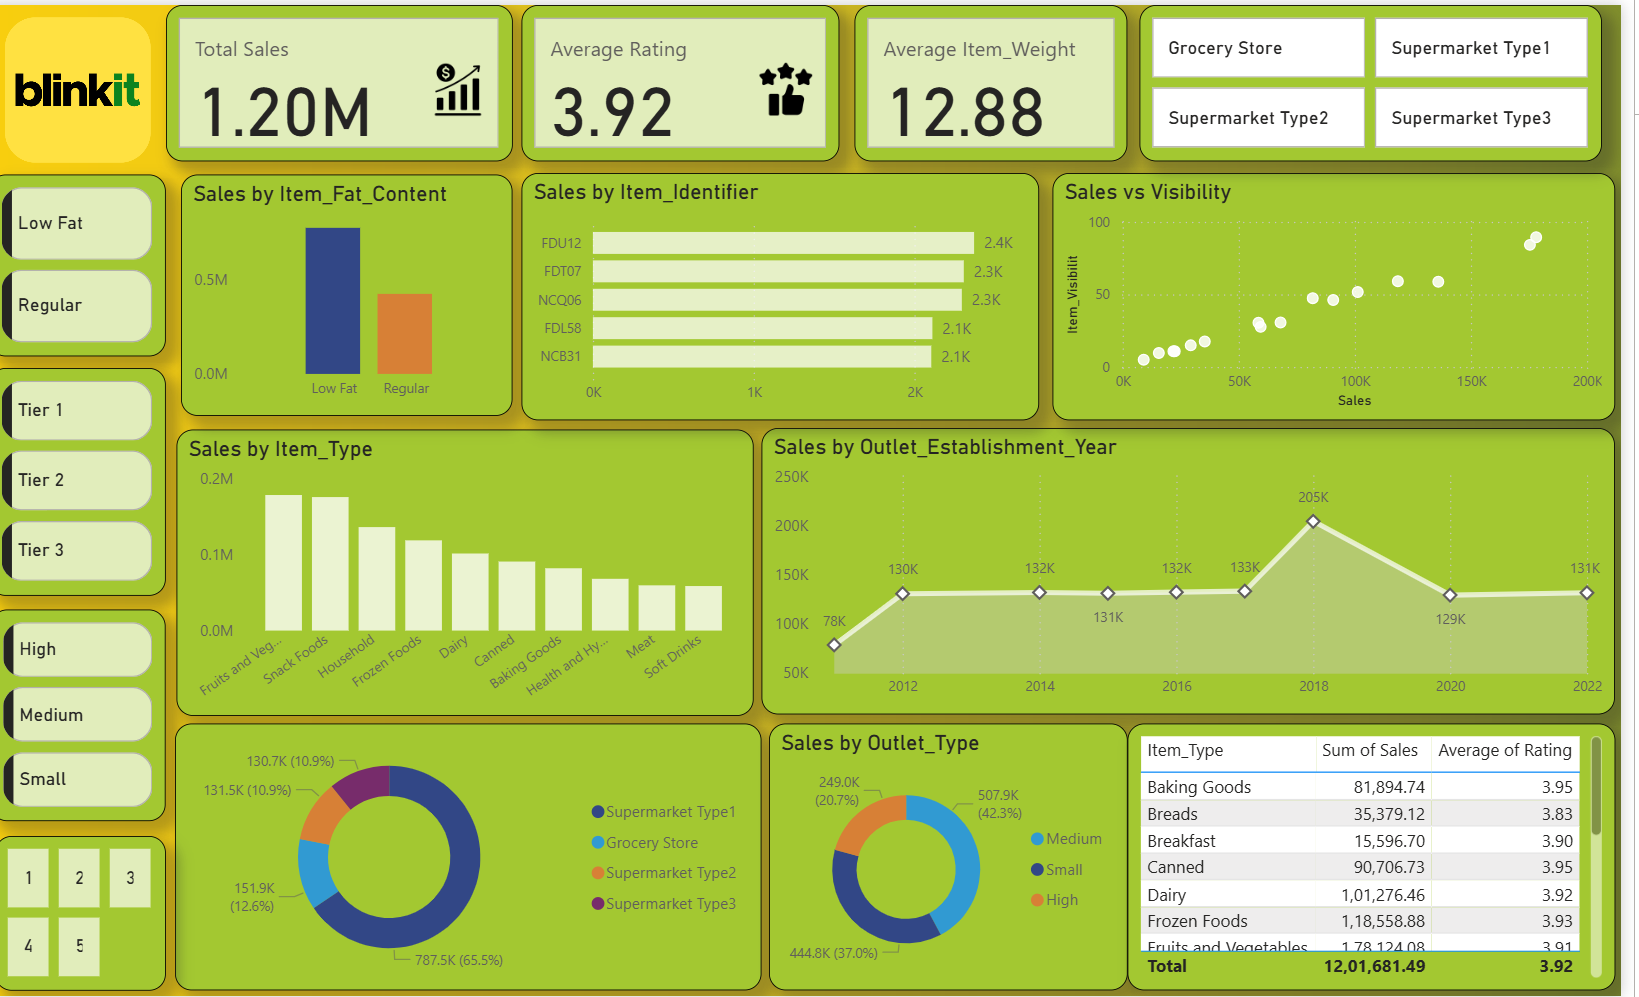

The dashboard page shown, as its layout file describes it:
{"tool":"powerbi","page":{"name":"Page 1","canvas":[1280,777],"ordinal":0},"visuals":[{"type":"cardVisual","fields":{"Data":["Sum(BlinkIT Grocery Data.Sales)"]},"box":[138.8,0,271.8,122.4],"z":0},{"type":"cardVisual","fields":{"Data":["Avg(BlinkIT Grocery Data.Rating)"]},"box":[417.6,0,249.4,122.4],"z":1000},{"type":"cardVisual","fields":{"Data":["Avg(BlinkIT Grocery Data.Item_Weight)"]},"box":[678.8,0,214.1,122.4],"z":2000},{"type":"advancedSlicerVisual","fields":{"Values":["BlinkIT Grocery Data.Item_Fat_Content"]},"box":[0,132.9,138.8,142.4],"z":3000},{"type":"advancedSlicerVisual","fields":{"Values":["BlinkIT Grocery Data.Outlet_Location_Type"]},"box":[0,284.7,138.8,178.8],"z":4000},{"type":"advancedSlicerVisual","fields":{"Values":["BlinkIT Grocery Data.Outlet_Size"]},"box":[1.2,474.1,137.6,165.9],"z":5000},{"type":"clusteredColumnChart","title":"Sales by Item_Type","fields":{"Category":["BlinkIT Grocery Data.Item_Type"],"Y":["Sum(BlinkIT Grocery Data.Sales)"]},"box":[147.1,332.9,452.9,224.7],"z":6000},{"type":"donutChart","title":"Sales by Outlet_Type","fields":{"Category":["BlinkIT Grocery Data.Outlet_Type"],"Y":["Sum(BlinkIT Grocery Data.Sales)"]},"box":[145.9,563.5,460,209.4],"z":7000},{"type":"lineChart","title":"Sales by Outlet_Establishment_Year","fields":{"Category":["BlinkIT Grocery Data.Outlet_Establishment_Year"],"Y":["Sum(BlinkIT Grocery Data.Sales)"]},"box":[605.9,331.8,669.4,224.7],"z":8000},{"type":"columnChart","title":"Sales by Item_Fat_Content","fields":{"Category":["BlinkIT Grocery Data.Item_Fat_Content"],"Y":["Sum(BlinkIT Grocery Data.Sales)"]},"box":[150.6,132.9,260,189.4],"z":9000},{"type":"barChart","title":" Sales by Item_Identifier","fields":{"Category":["BlinkIT Grocery Data.Item_Identifier"],"Y":["Sum(BlinkIT Grocery Data.Sales)"]},"box":[417.6,131.8,405.9,194.1],"z":10000},{"type":"scatterChart","title":"Sales vs Visibility","fields":{"X":["Sum(BlinkIT Grocery Data.Sales)"],"Category":["BlinkIT Grocery Data.Item_Type"],"Y":["Sum(BlinkIT Grocery Data.Item_Visibility)"]},"box":[834.1,131.8,441.2,194.1],"z":11000},{"type":"advancedSlicerVisual","fields":{"Values":["BlinkIT Grocery Data.Outlet_Type"]},"box":[902.4,0,362.4,122.4],"z":12000},{"type":"image","box":[0,0,138.8,132.9],"z":13000},{"type":"donutChart","title":"Sales by Outlet_Type","fields":{"Category":["BlinkIT Grocery Data.Outlet_Size"],"Y":["Sum(BlinkIT Grocery Data.Sales)"]},"box":[611.8,563.5,281.2,209.4],"z":14000},{"type":"slicer","fields":{"Values":["BlinkIT Grocery Data.Item_Type"]},"box":[4.7,651.8,134.1,121.2],"z":15000},{"type":"tableEx","fields":{"Values":["BlinkIT Grocery Data.Item_Type","Sum(BlinkIT Grocery Data.Sales)","Avg(BlinkIT Grocery Data.Rating)"]},"box":[893,564,382,209],"z":15001}]}

Visuals, with their boxes in screenshot pixels (x1, y1, x2, y2), scaled from the page's 1280x777 canvas onto the 1639x997 screenshot:
cardVisual - Sum(BlinkIT Grocery Data.Sales): 178:0:526:157
cardVisual - Avg(BlinkIT Grocery Data.Rating): 535:0:854:157
cardVisual - Avg(BlinkIT Grocery Data.Item_Weight): 869:0:1143:157
advancedSlicerVisual - BlinkIT Grocery Data.Item_Fat_Content: 0:171:178:353
advancedSlicerVisual - BlinkIT Grocery Data.Outlet_Location_Type: 0:365:178:595
advancedSlicerVisual - BlinkIT Grocery Data.Outlet_Size: 2:608:178:821
"Sales by Item_Type" clusteredColumnChart: 188:427:768:715
"Sales by Outlet_Type" donutChart: 187:723:776:992
"Sales by Outlet_Establishment_Year" lineChart: 776:426:1633:714
"Sales by Item_Fat_Content" columnChart: 193:171:526:414
" Sales by Item_Identifier" barChart: 535:169:1054:418
"Sales vs Visibility" scatterChart: 1068:169:1633:418
advancedSlicerVisual - BlinkIT Grocery Data.Outlet_Type: 1155:0:1620:157
image: 0:0:178:171
"Sales by Outlet_Type" donutChart: 783:723:1143:992
slicer - BlinkIT Grocery Data.Item_Type: 6:836:178:992
tableEx - BlinkIT Grocery Data.Item_Type x Sum(BlinkIT Grocery Data.Sales): 1143:724:1633:992
